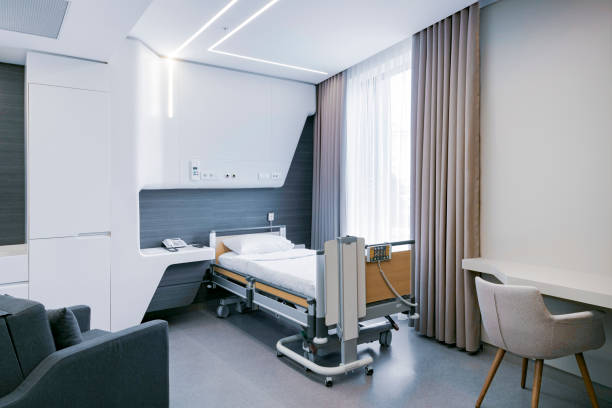chair: (473, 275, 612, 408)
countertop: (464, 255, 612, 302), (141, 240, 217, 268)
foot_board: (313, 239, 420, 345)
hospital_bed: (208, 224, 417, 387)
sequential_compression: (365, 245, 393, 265)
sofa: (1, 292, 170, 408)
telephone: (160, 237, 188, 253)
